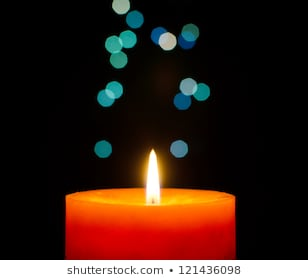Fire: (143, 144, 166, 207)
